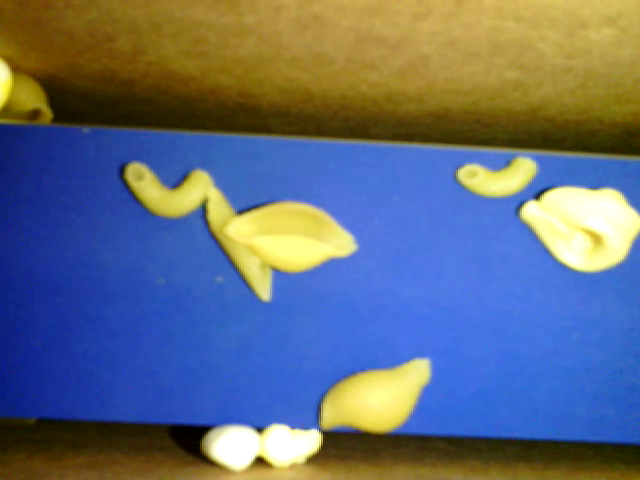elbow: (123, 158, 217, 217), (458, 158, 540, 198)
penne: (206, 187, 271, 300)
shell: (219, 199, 359, 276), (321, 354, 430, 433), (1, 72, 54, 127)
tortellini: (511, 188, 639, 276)
